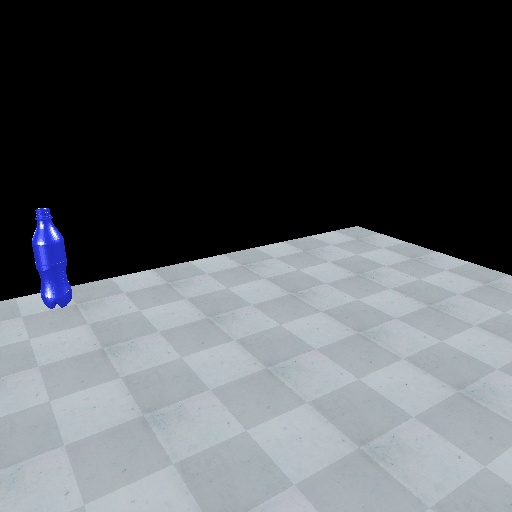bottle: (27, 204, 74, 311)
